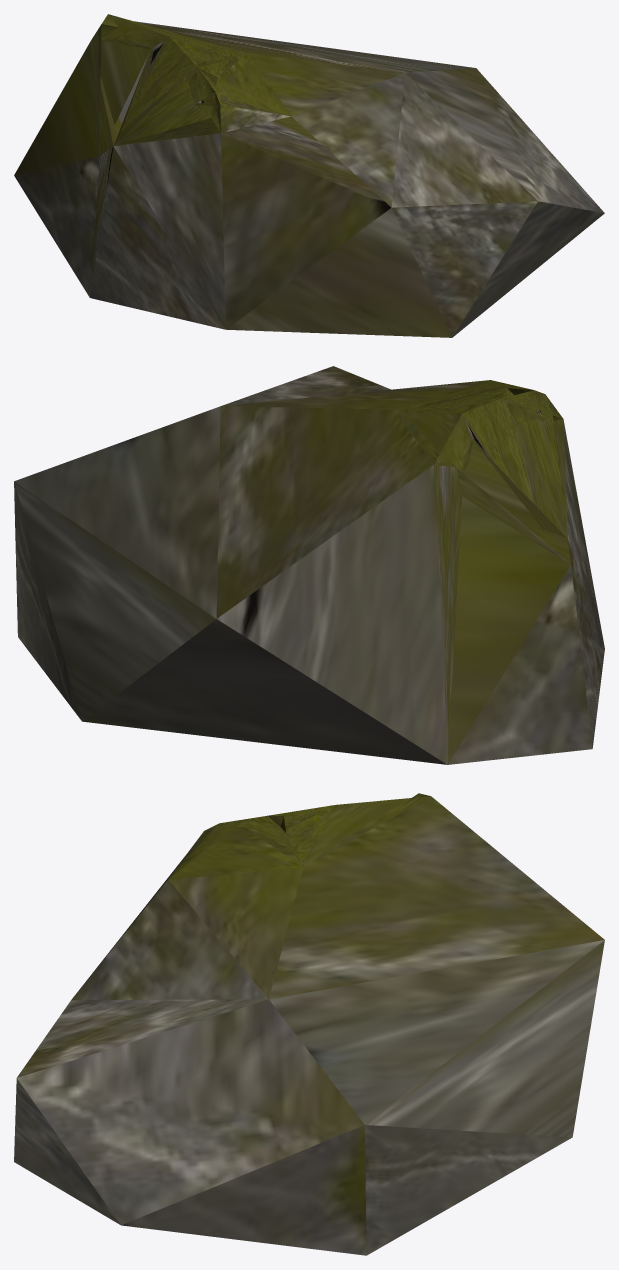
The model's file is fo_moss_boulder_lod2.glb.
The picture shows the model from 3 angles, top to bottom: view 1: azimuth 30°, elevation 25°; view 2: azimuth 150°, elevation 25°; view 3: azimuth 270°, elevation 25°; orthographic projection. The views are drawn at different scales.
Visible parts, largest first — view 1: output_unwrapped; view 2: output_unwrapped; view 3: output_unwrapped.
Part boxes in pixels (box(x1,y1,x2,y2)): output_unwrapped: box(14, 14, 604, 337); output_unwrapped: box(14, 366, 604, 764); output_unwrapped: box(14, 793, 604, 1255).
Size of the model in its own units: 1.49 by 0.775 by 1.51.
Materials: 1 (1 with a texture image).
